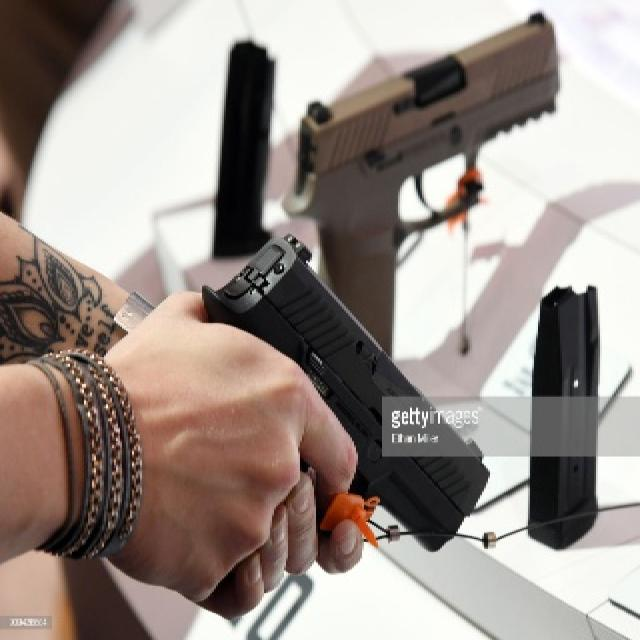handgun: (189, 230, 489, 557), (289, 8, 561, 351)
